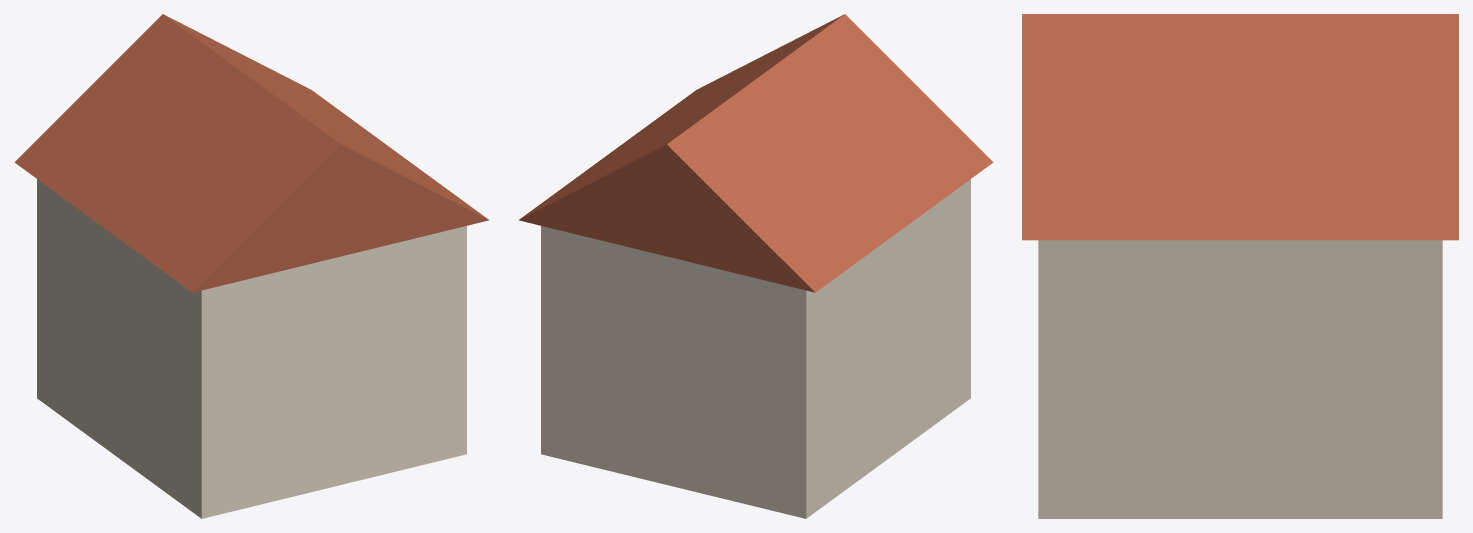
The model's file is casa_mapa.fbx.
3 renders of one model, left to right at view 1: azimuth 30°, elevation 25°; view 2: azimuth 150°, elevation 25°; view 3: azimuth 270°, elevation 25°, orthographic. The views are drawn at different scales.
Parts seen in each view (by area): view 1: houseWall, houseRoof; view 2: houseWall, houseRoof; view 3: houseWall, houseRoof.
Boxes of the visible parts, left/top/right/bottom form: houseWall: left=37, top=179, right=466, bottom=518; houseRoof: left=14, top=14, right=488, bottom=292; houseWall: left=541, top=179, right=970, bottom=518; houseRoof: left=519, top=14, right=993, bottom=292; houseWall: left=1038, top=240, right=1442, bottom=518; houseRoof: left=1022, top=14, right=1458, bottom=240.
Bounding box in the file's own units: 2.91 × 3.25 × 3.02.
